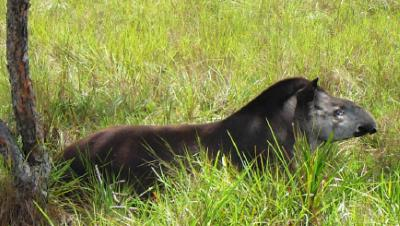Anta: (59, 75, 383, 183)
